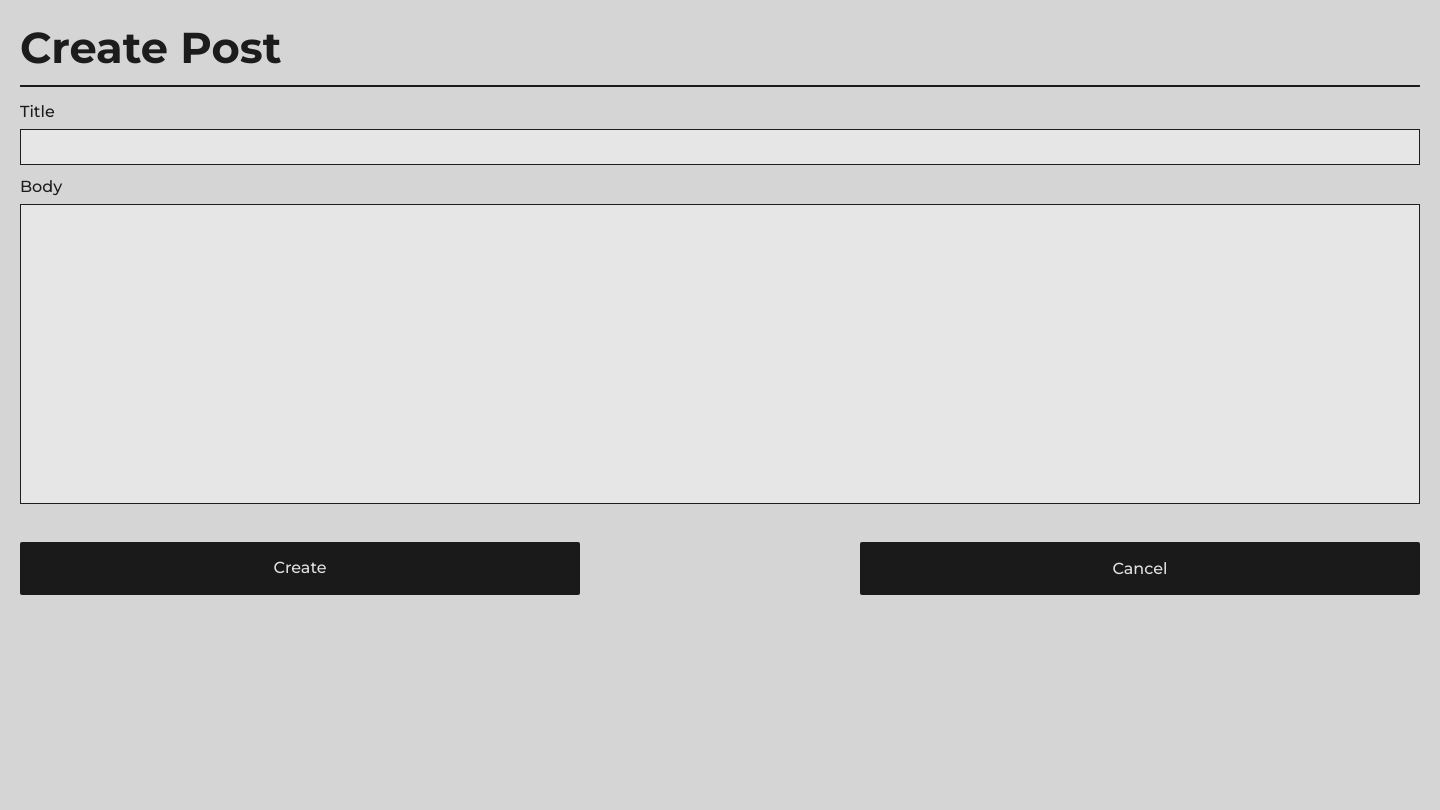
Scenario: CreatePost › should show error alert when submitData fails
Type "Test error" into the field. click: (720, 147)
box: [20,129,1420,165]
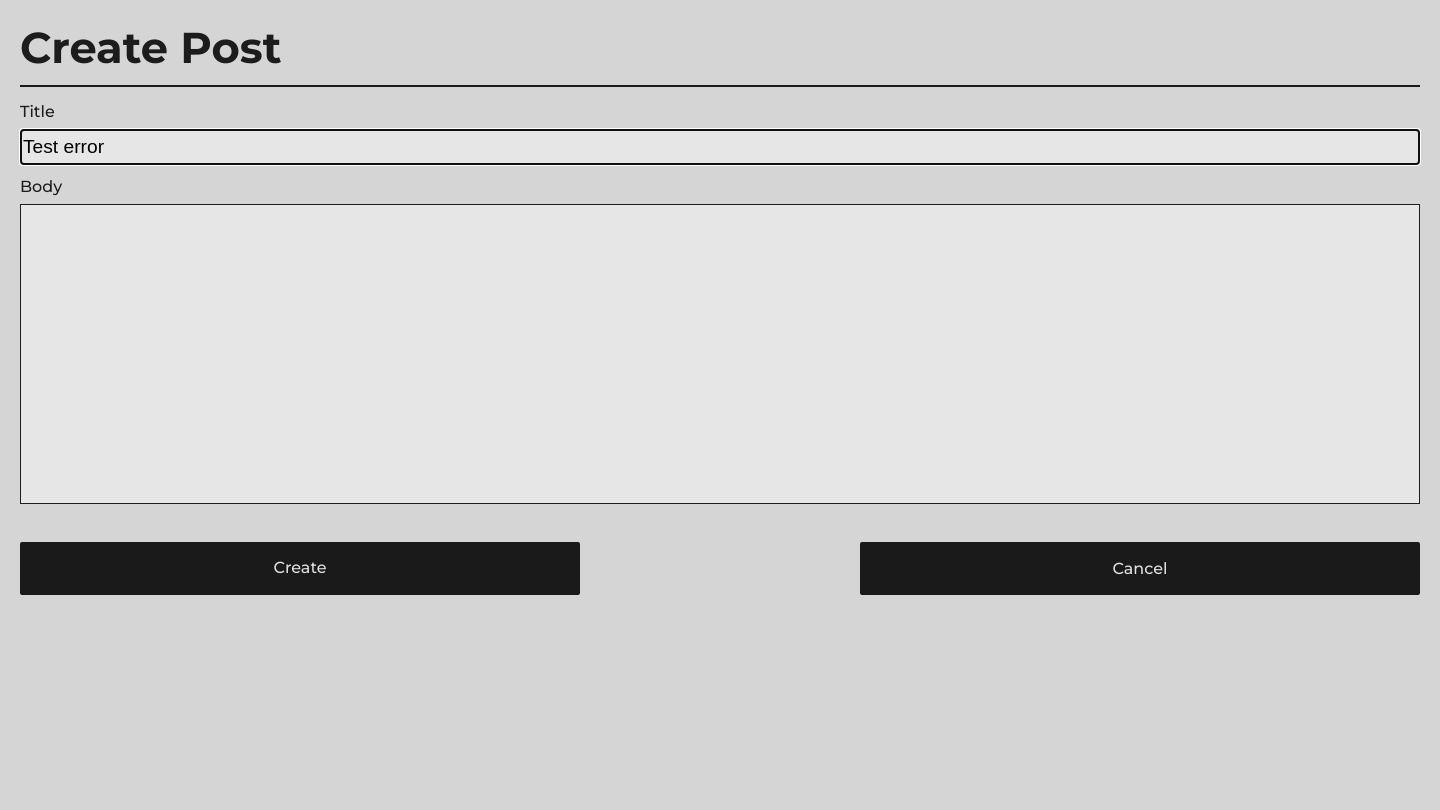
Type "Test body" into the text box. click: (720, 354)
box: [20,204,1420,504]
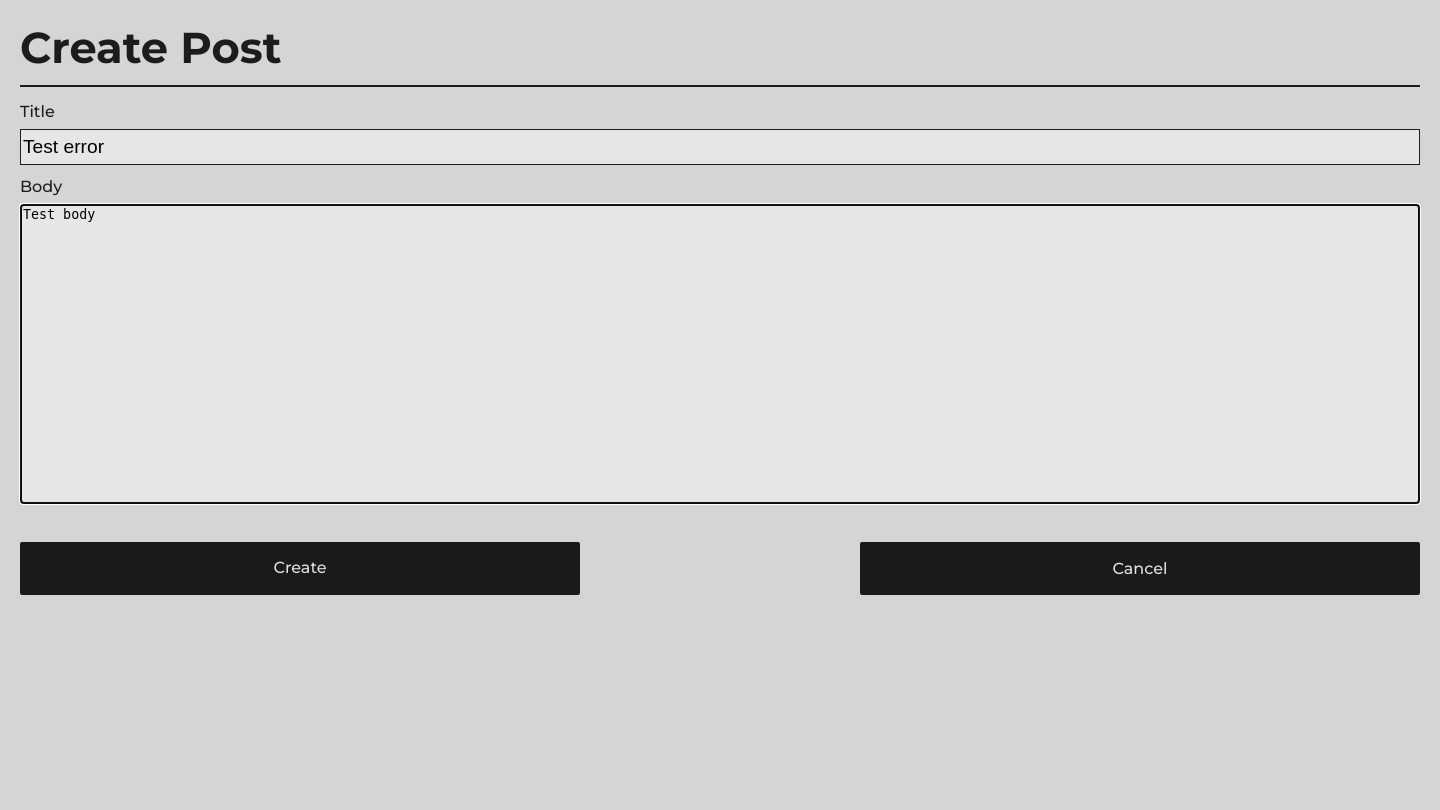
Click the button "Create". click: (300, 568)
box: [20,542,580,595]
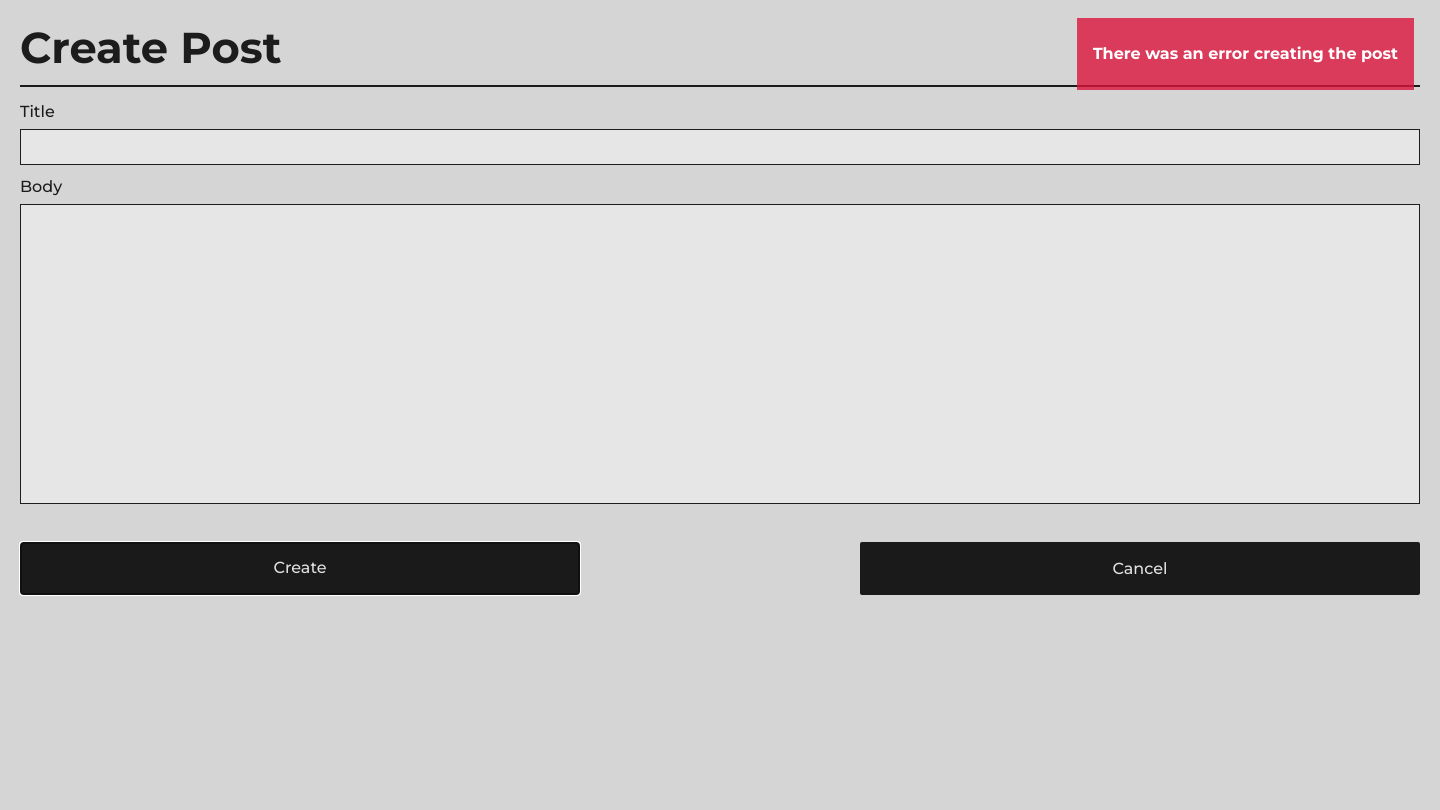
Expected: the text "There was an error creating the post" is shown, [1093,42,1398,66]
